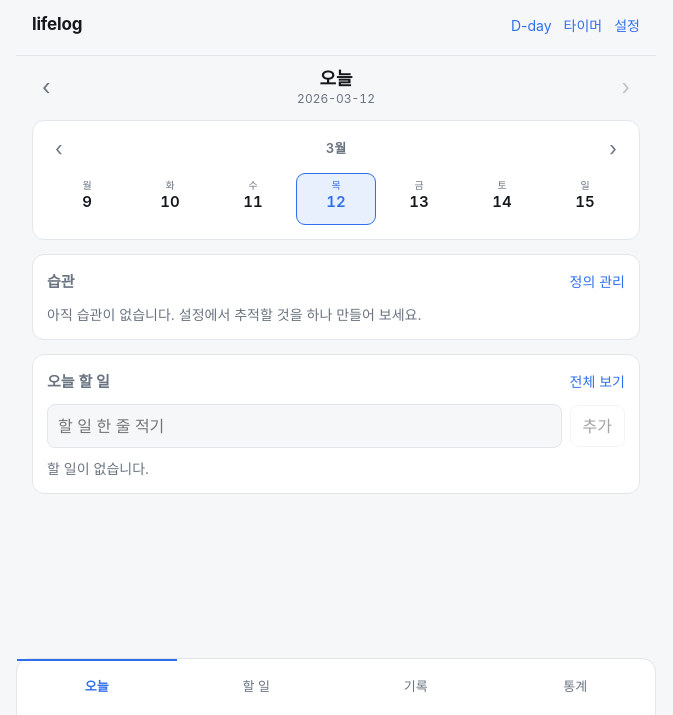
Test: 앱 배선 › 기록·통계 탭은 비어 있어도 열린다
Click the button "기록" at (416, 687), box [336,659,496,714]
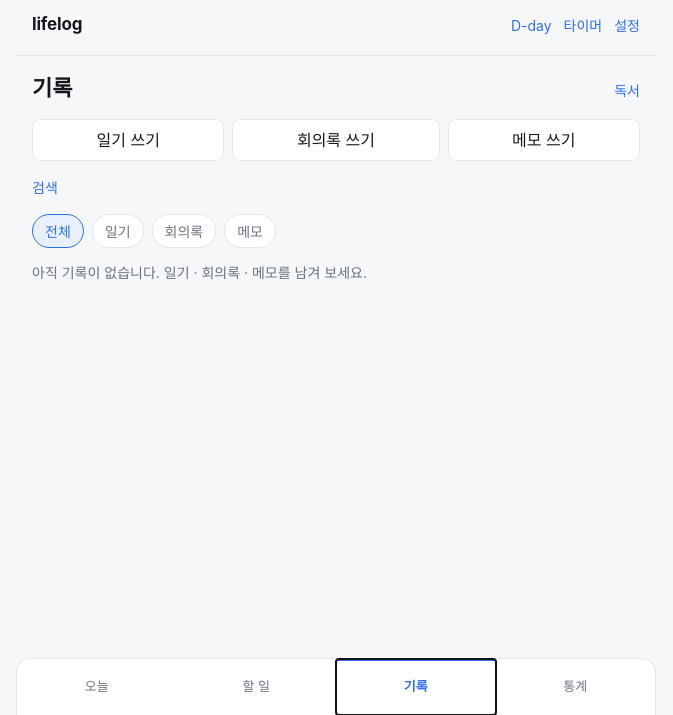
Check: the text "아직 기록이 없습니다. 일기 · 회의록 · 메모를 남겨 보세요." is shown, box [32,264,367,281]
Click the button "통계" at (575, 687), box [496,659,655,714]
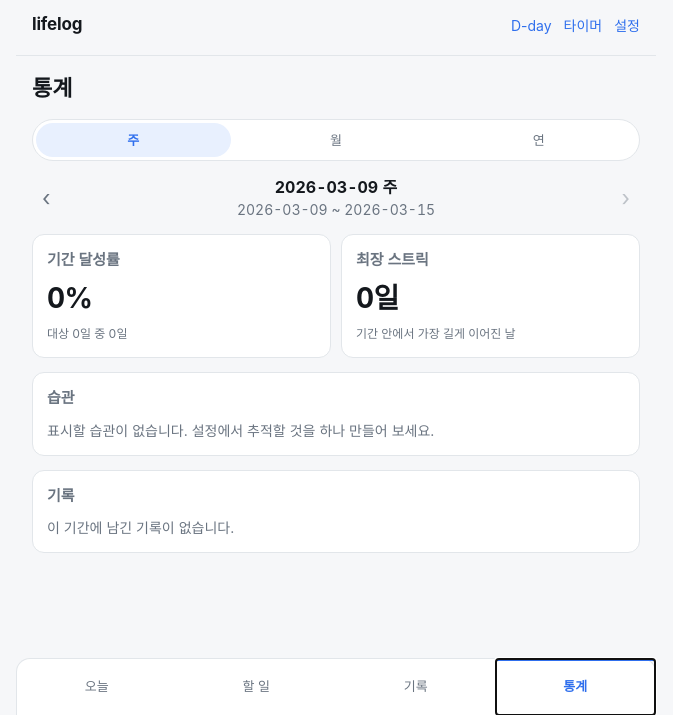
Check: the heading "기간 달성률" is shown, box [47,250,120,269]
